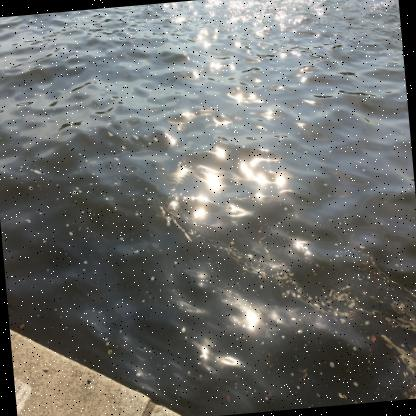Plastic film: (166, 200, 180, 217)
